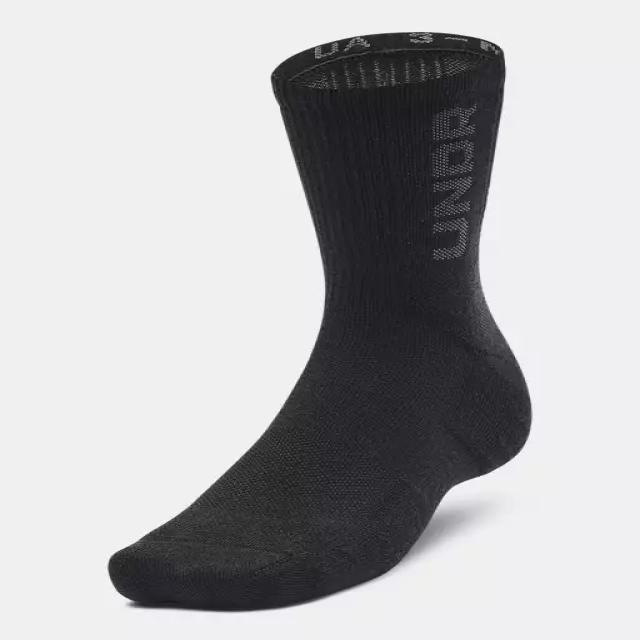sock: (106, 30, 532, 611)
